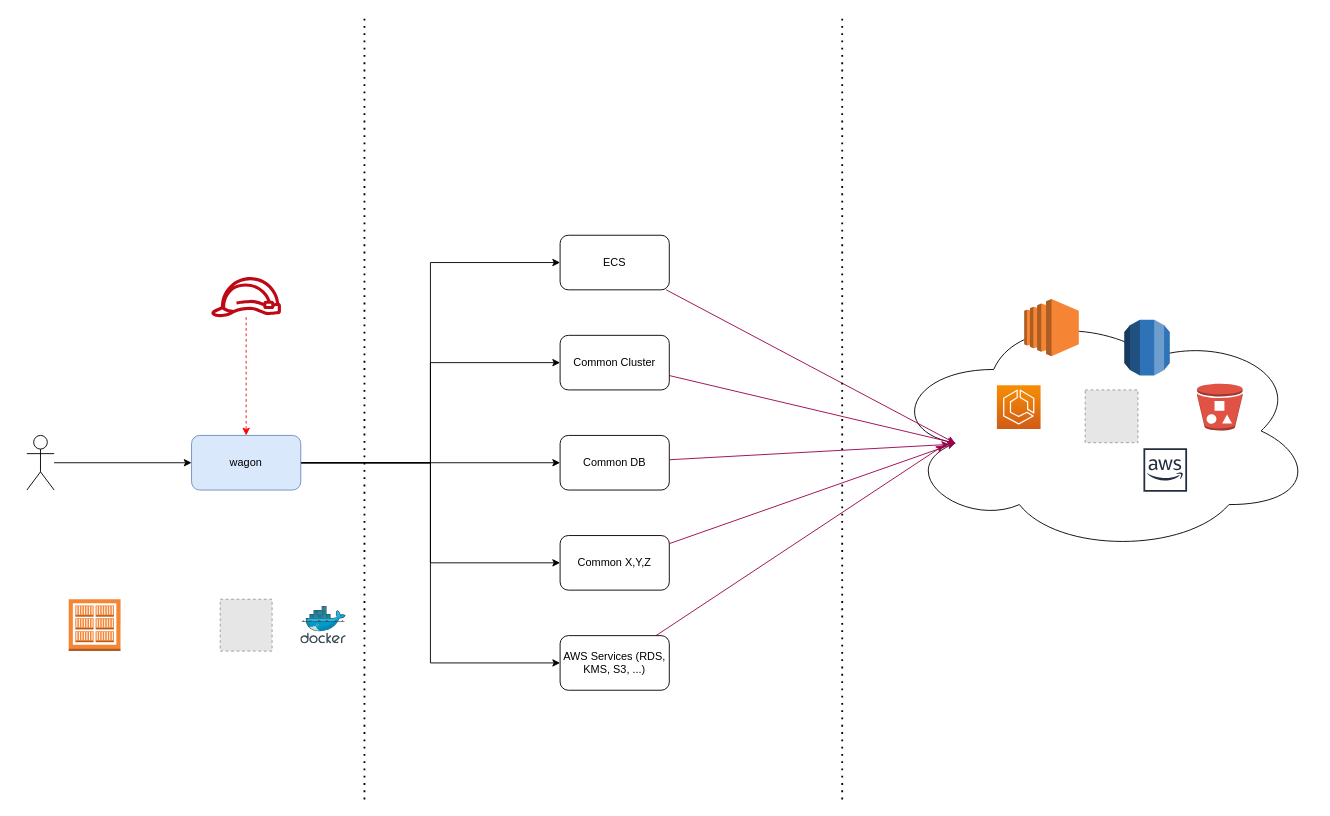
Some shapes in this 1330 by 816 pixel diagram are drawn without their labels. Grey dashed boxes stand in for pictures. Here are the shapes that lost their labels. From the top down, the box of each, then its label:
(210, 277, 281, 317): Assumed Role
(26, 435, 54, 490): Engineers
(1137, 442, 1193, 497): AWS Cloud
